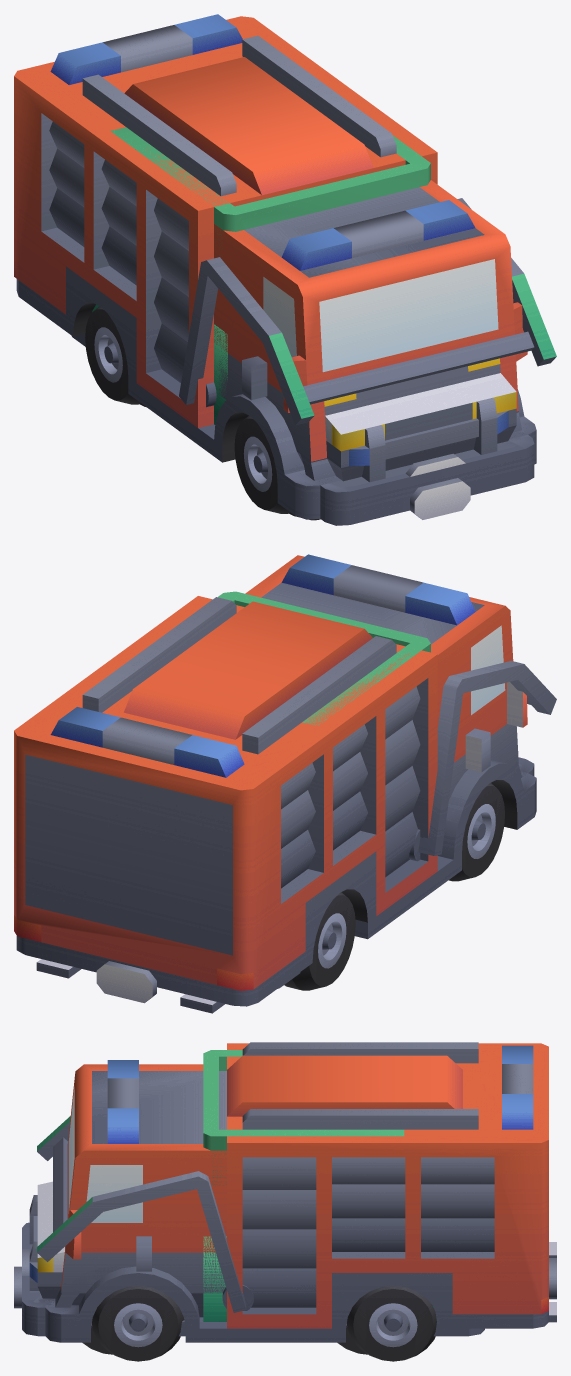
The model's file is garbage-truck.glb.
3 views of the same model, one above another, from view 1: azimuth 30°, elevation 25°; view 2: azimuth 150°, elevation 25°; view 3: azimuth 270°, elevation 25° (orthographic). The views are drawn at different scales.
Visible parts, largest first — view 1: body, body.001, arm, grill, wheel-back-right, wheel-front-right; view 2: body, arm, body.001, wheel-back-right, wheel-front-right; view 3: body, body.001, arm, wheel-front-left, wheel-back-left, grill.
Boxes of the visible parts, x1,y1,x2,y2 form: body: [14, 14, 536, 519]; body.001: [72, 127, 534, 525]; arm: [179, 198, 556, 425]; grill: [329, 397, 520, 486]; wheel-back-right: [85, 306, 140, 404]; wheel-front-right: [234, 415, 289, 513]; body: [14, 554, 536, 1006]; arm: [409, 661, 556, 861]; body.001: [36, 591, 534, 1013]; wheel-back-right: [284, 892, 355, 990]; wheel-front-right: [449, 783, 504, 881]; body: [45, 1042, 556, 1342]; body.001: [14, 1050, 556, 1336]; arm: [37, 1116, 253, 1312]; wheel-front-left: [92, 1285, 184, 1361]; wheel-back-left: [347, 1285, 436, 1361]; grill: [22, 1195, 41, 1302].
Size of the model in its own units: 1.6 by 1.7 by 3.45.
Materials: 2 (2 with a texture image).
